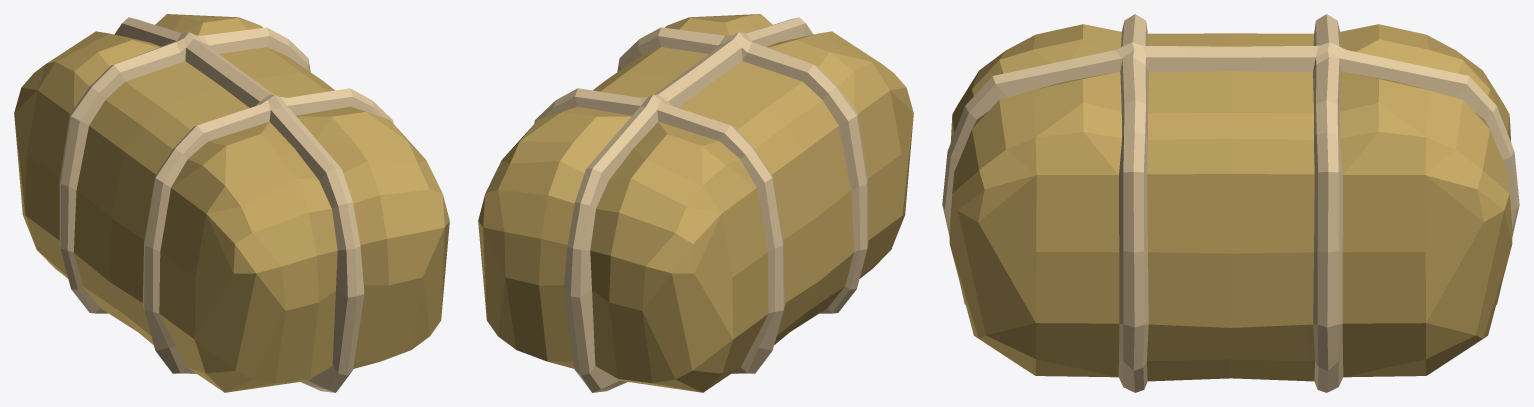
The model's file is EA03_Prop_Container_Bale_01a.glb.
The picture shows the model from 3 angles, left to right: view 1: azimuth 30°, elevation 25°; view 2: azimuth 150°, elevation 25°; view 3: azimuth 270°, elevation 25°; orthographic projection. The views are drawn at different scales.
Parts seen in each view (by area): view 1: EA03_Prop_Container_Bale_01a; view 2: EA03_Prop_Container_Bale_01a; view 3: EA03_Prop_Container_Bale_01a.
Boxes of the visible parts, <box> form: EA03_Prop_Container_Bale_01a: <box>14,14,449,392</box>; EA03_Prop_Container_Bale_01a: <box>478,14,913,392</box>; EA03_Prop_Container_Bale_01a: <box>942,14,1519,392</box>.
Size of the model in its own units: 0.3595 by 0.3714 by 0.602.
1 material, 1 textured.
